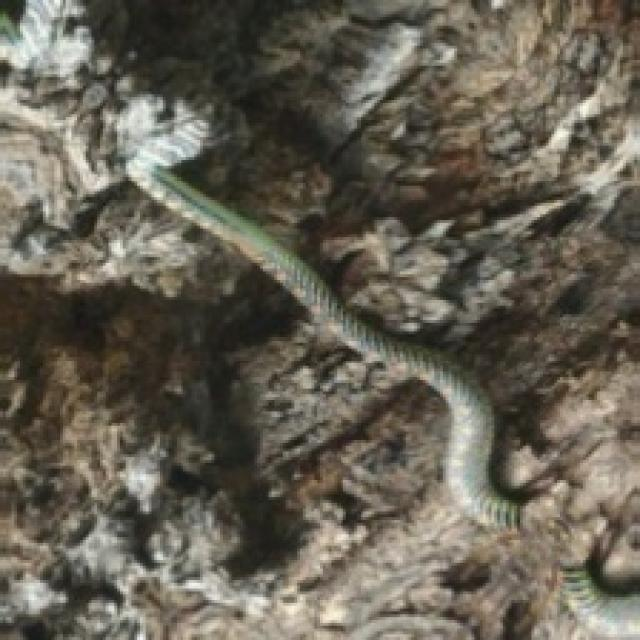paradise tree snake: (126, 149, 517, 529)
